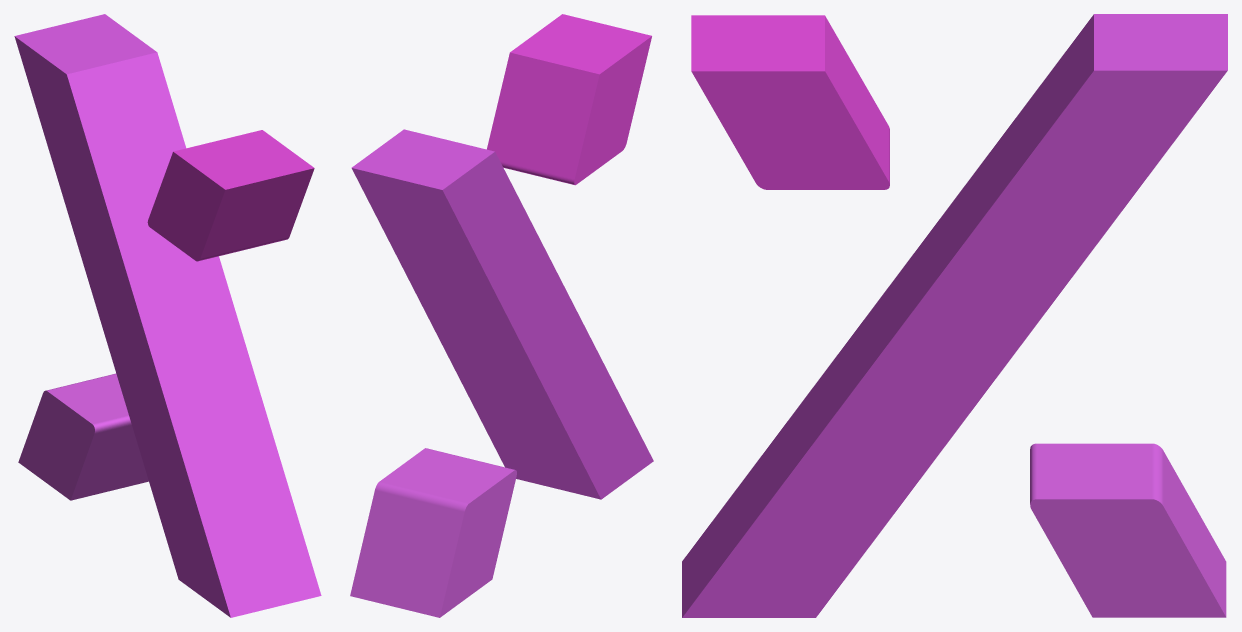
3 views of the same model, side by side, from view 1: azimuth 30°, elevation 25°; view 2: azimuth 150°, elevation 25°; view 3: azimuth 270°, elevation 25° (orthographic). The views are drawn at different scales.
Visible parts, largest first — view 1: Cube.002, Cube, Cube.001; view 2: Cube.002, Cube.001, Cube; view 3: Cube.002, Cube, Cube.001.
Part boxes in pixels (x1=…): Cube.002: x1=14, y1=14, x2=321, y2=617; Cube: x1=147, y1=130, x2=314, y2=261; Cube.001: x1=18, y1=373, x2=148, y2=500; Cube.002: x1=351, y1=129, x2=653, y2=499; Cube.001: x1=350, y1=448, x2=516, y2=617; Cube: x1=487, y1=14, x2=651, y2=185; Cube.002: x1=682, y1=14, x2=1227, y2=617; Cube: x1=691, y1=15, x2=889, y2=189; Cube.001: x1=1030, y1=443, x2=1226, y2=617.
Size of the model in its own units: 2.07 by 9 by 8.16.
